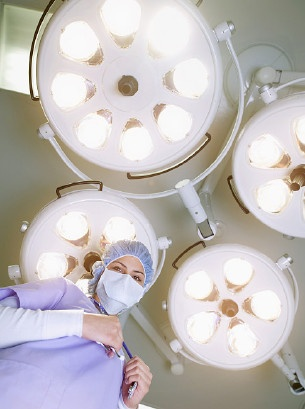Mask: (95, 262, 148, 316)
